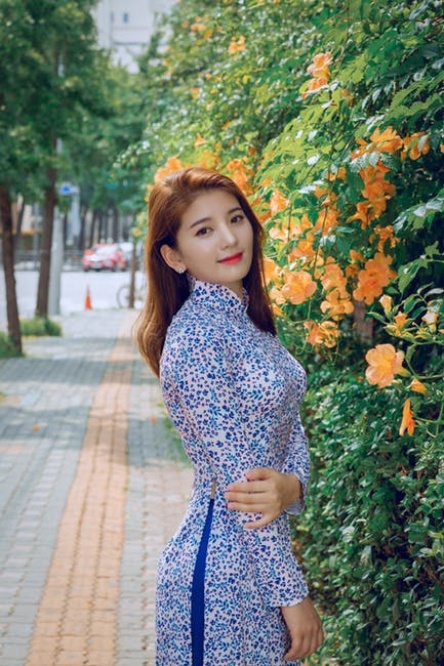face: (178, 193, 254, 281)
